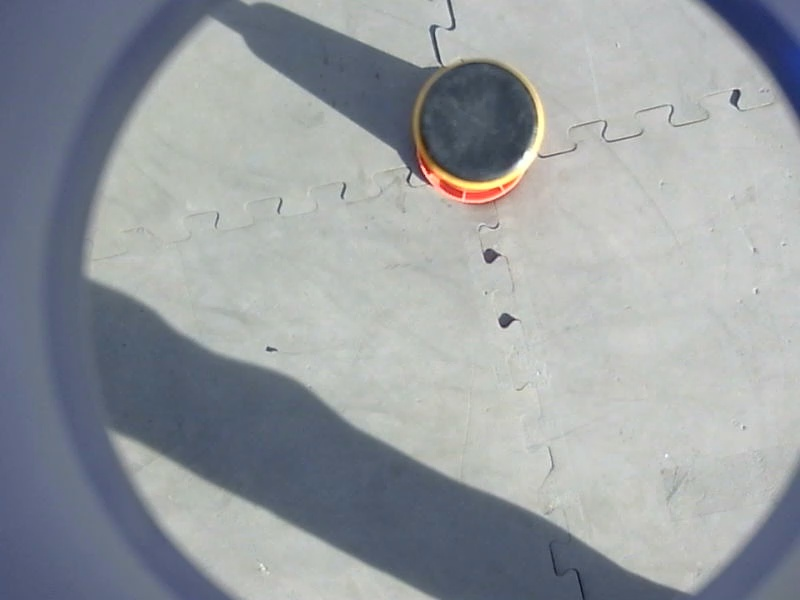tip: (407, 53, 550, 197)
